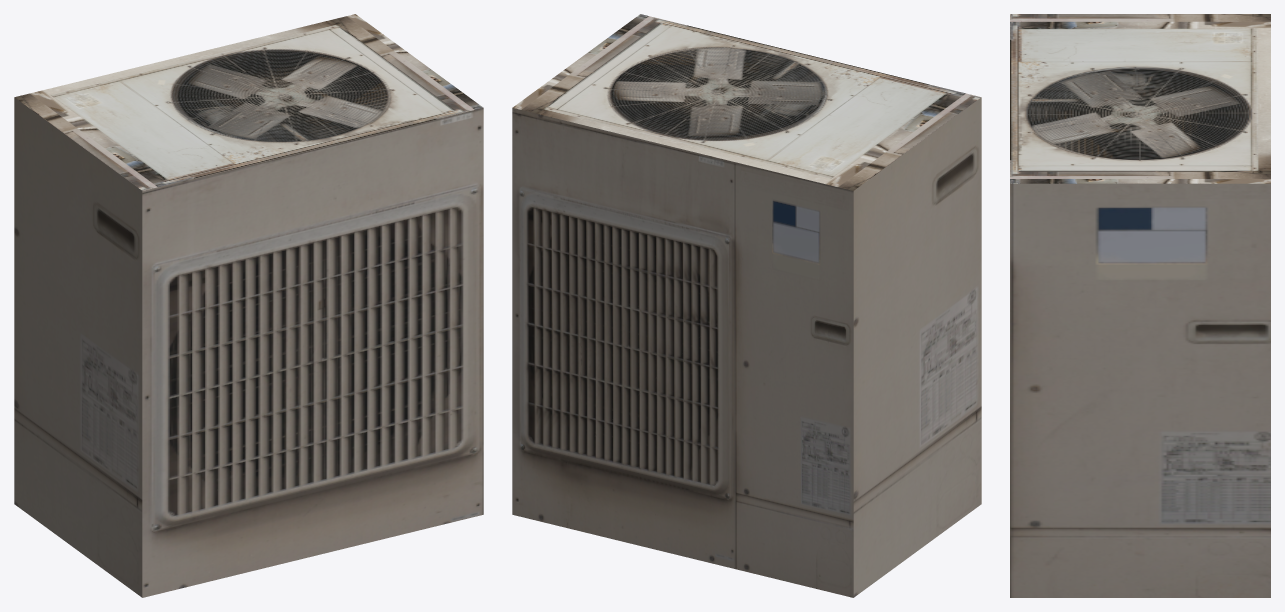
Rendered from aircon.fbx.
The picture shows the model from 3 angles, left to right: view 1: azimuth 30°, elevation 25°; view 2: azimuth 150°, elevation 25°; view 3: azimuth 270°, elevation 25°; orthographic projection.
Visible parts, largest first — view 1: Box003; view 2: Box003; view 3: Box003.
Part boxes in pixels (x1,y1,x2,y2): Box003: [14, 14, 483, 597]; Box003: [512, 14, 981, 597]; Box003: [1010, 14, 1270, 597].
Bounding box in the file's own units: 5.76 × 6.56 × 3.74.
2 materials, 2 textured.
